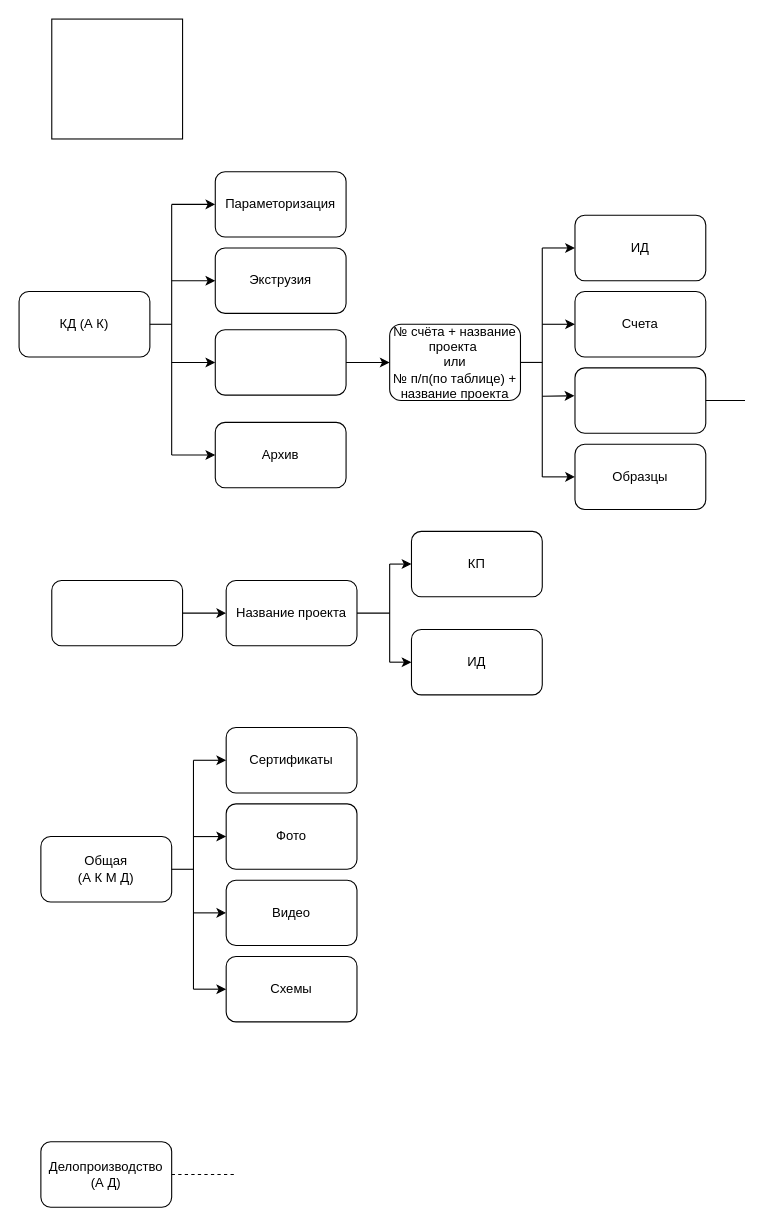
Image size: 765x1226. Some labels were removed from this diagram. Each missing label, with the centre of its shape:
Год: the point at 280,362
КД: the point at 640,400
КП и ИД (Исходные данные) (А М): the point at 117,612
Роли: Админ (А) Конструктор (К) Менеджер (М) Делопроизводство (Д): the point at 117,78
